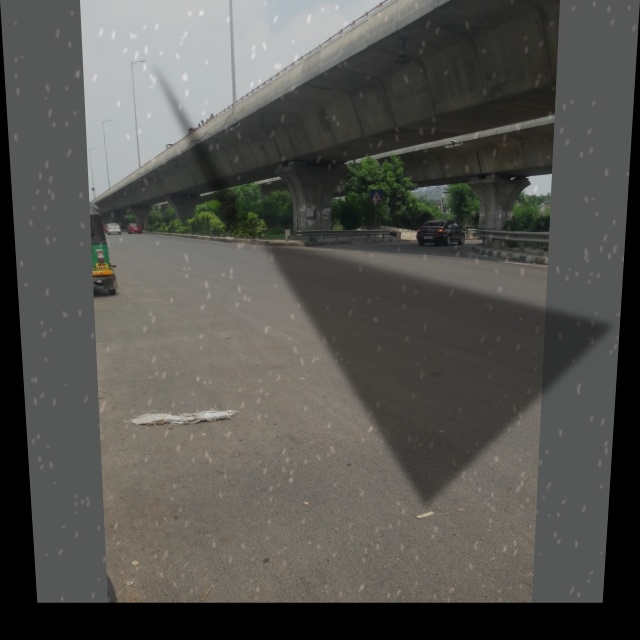Pedestrian_Crossing: (367, 185, 382, 202)
